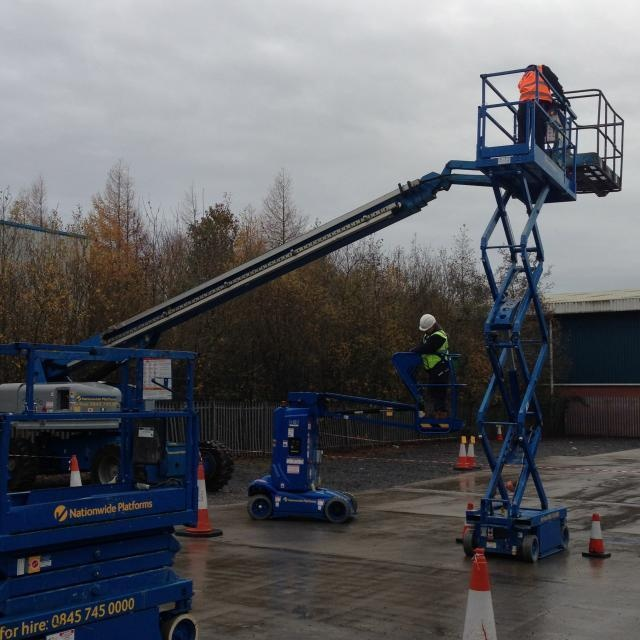Arnes_seguridad: (421, 334, 450, 376)
